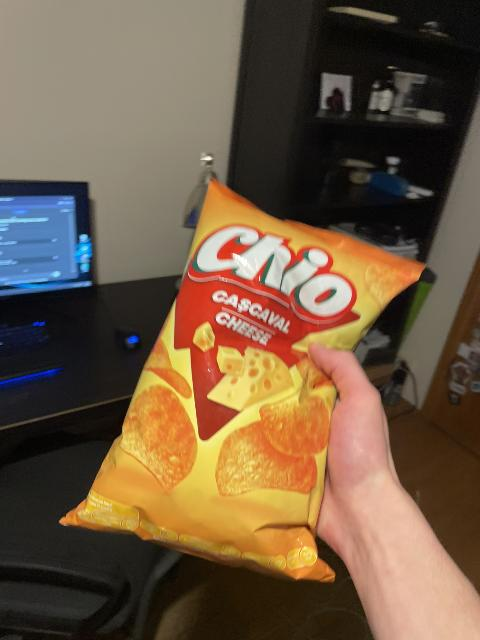Chio Cascaval 125g: (63, 180, 420, 581)
